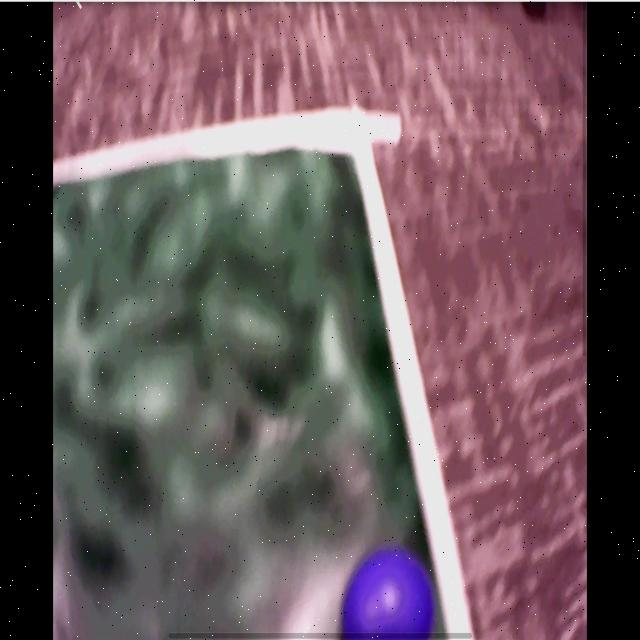ball: (344, 546, 434, 640)
